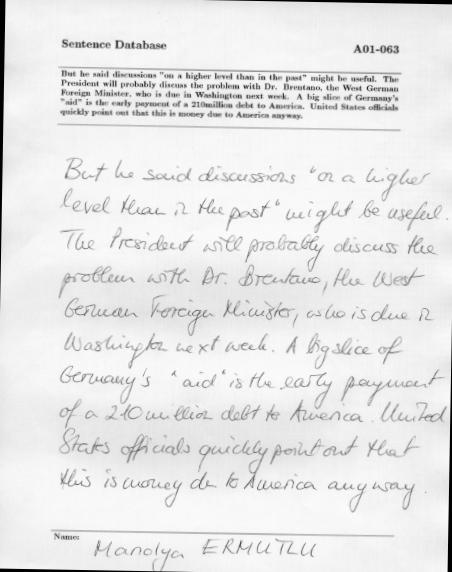text: (58, 287, 437, 342), (54, 423, 424, 479), (53, 360, 450, 412), (57, 184, 452, 236), (61, 224, 442, 276), (59, 152, 434, 203), (55, 464, 430, 514), (53, 390, 450, 436), (53, 258, 427, 305), (58, 326, 406, 375), (88, 528, 318, 572), (58, 76, 402, 94), (58, 86, 400, 104), (55, 96, 402, 113), (58, 67, 400, 84), (58, 106, 304, 121), (58, 35, 168, 52), (349, 41, 402, 56), (51, 531, 83, 544)
